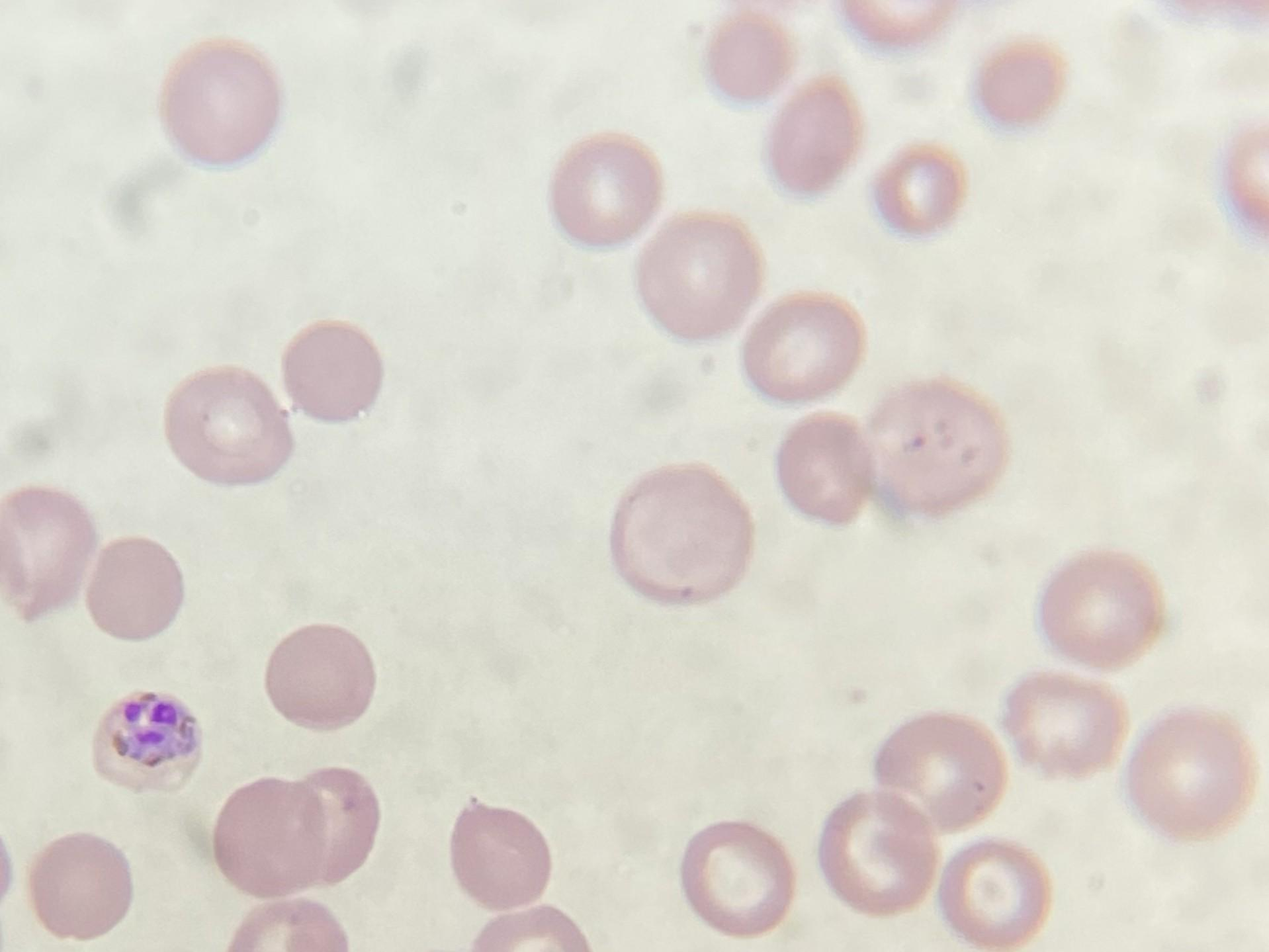Infected: (93, 689, 204, 793)
Uninfected: (212, 769, 377, 898), (609, 465, 752, 601), (865, 380, 1000, 510), (1123, 709, 1252, 838), (872, 713, 1005, 834), (818, 791, 943, 916), (161, 367, 293, 485), (636, 214, 762, 337), (161, 39, 283, 166), (1039, 550, 1166, 667), (740, 294, 863, 402), (0, 487, 98, 621), (678, 820, 794, 933), (1001, 673, 1122, 779), (548, 134, 662, 243), (936, 838, 1051, 945), (264, 623, 377, 730), (26, 832, 134, 940), (448, 801, 553, 910), (775, 411, 873, 523), (82, 537, 187, 641), (766, 79, 861, 193), (282, 320, 385, 420), (871, 144, 965, 233), (706, 13, 794, 101), (977, 42, 1065, 126)
